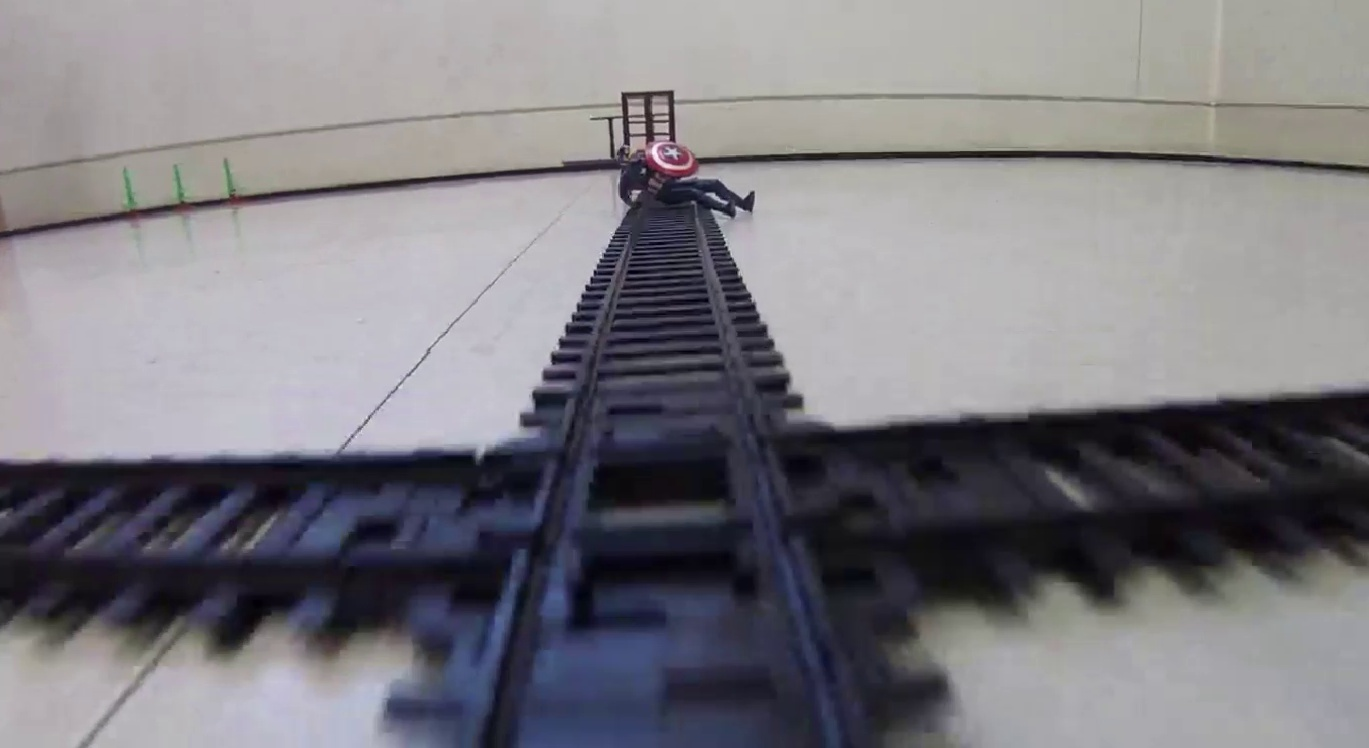people: (619, 140, 757, 221)
